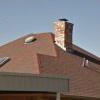Chimney: (52, 9, 76, 56)
